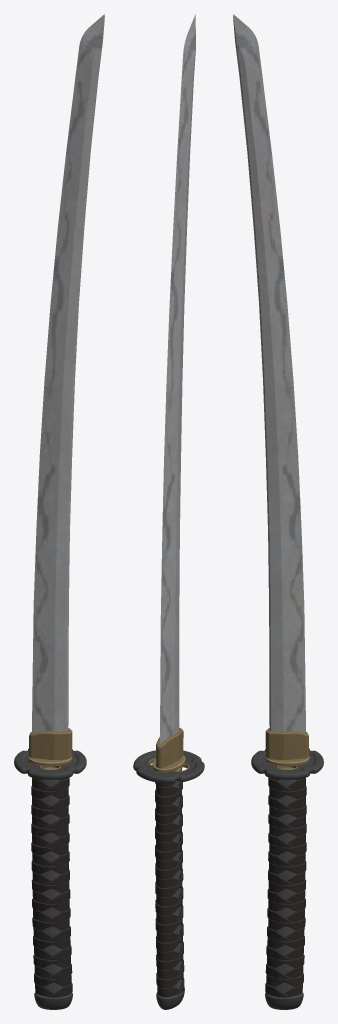
The model's file is katana2.glb.
3 views of the same model, side by side, from view 1: azimuth 90°, elevation 25°; view 2: azimuth 150°, elevation 25°; view 3: azimuth 270°, elevation 25° (orthographic). The views are drawn at different scales.
Parts seen in each view (by area): view 1: submesh_00_LOD_1_Baked; view 2: submesh_00_LOD_1_Baked; view 3: submesh_00_LOD_1_Baked.
Boxes of the visible parts, <box> form: submesh_00_LOD_1_Baked: <box>14,14,104,1009</box>; submesh_00_LOD_1_Baked: <box>133,14,204,1009</box>; submesh_00_LOD_1_Baked: <box>233,14,323,1009</box>.
Bounding box in the file's own units: 0.0762 × 1.15 × 0.0952.
1 material, 1 textured.
